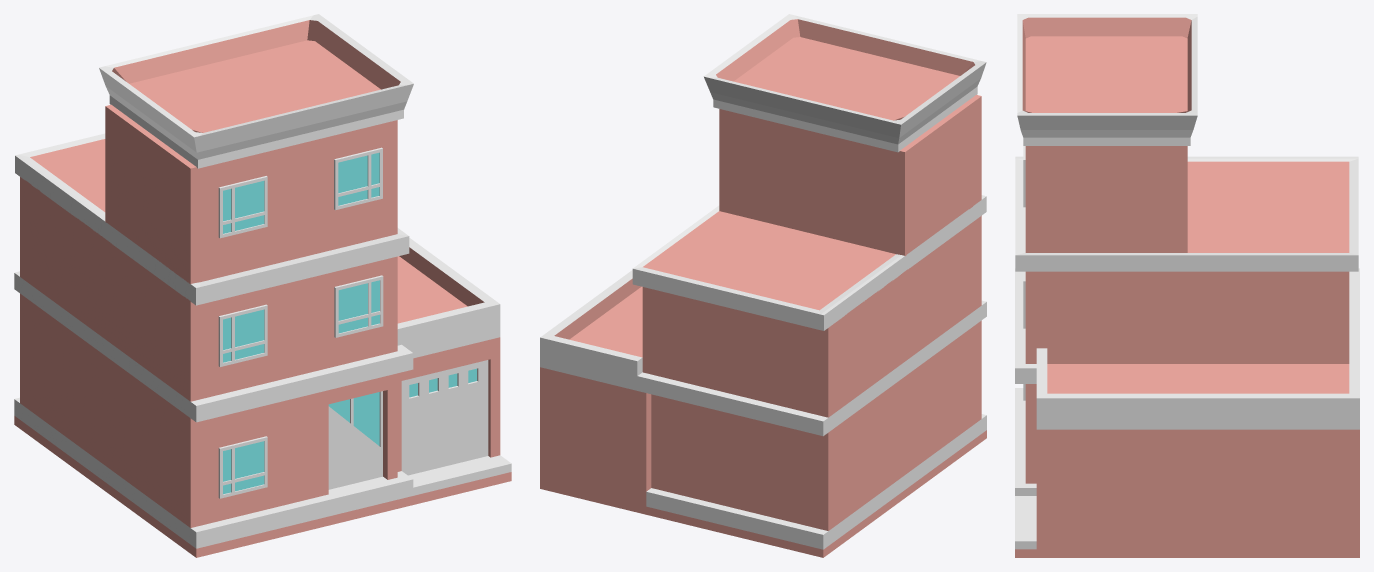
The model's file is Building_2_Pink.fbx.
3 renders of one model, left to right at view 1: azimuth 30°, elevation 25°; view 2: azimuth 150°, elevation 25°; view 3: azimuth 270°, elevation 25°, orthographic. The views are drawn at different scales.
Visible parts, largest first — view 1: Cube; view 2: Cube; view 3: Cube.
Boxes of the visible parts, <box> form: Cube: <box>14,14,511,557</box>; Cube: <box>540,14,986,557</box>; Cube: <box>1015,14,1359,557</box>.
Bounding box in the file's own units: 201 × 254 × 200.
